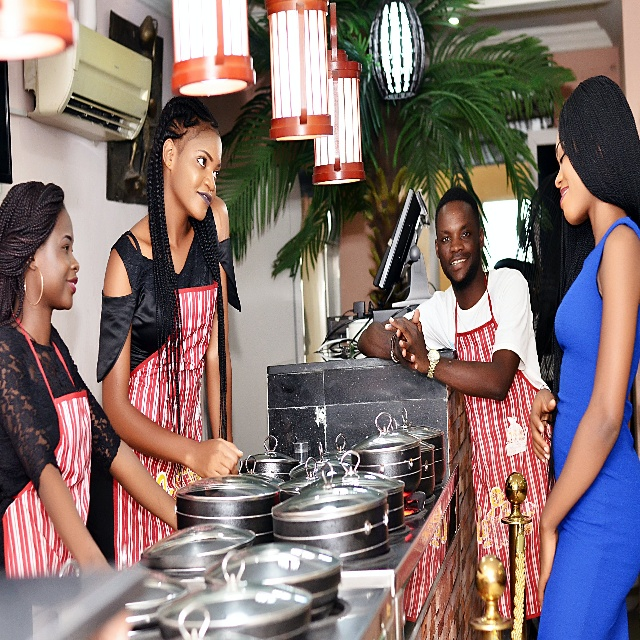Sin_guantes: (389, 314, 428, 375), (537, 514, 559, 609), (529, 388, 556, 463), (193, 437, 243, 476), (393, 328, 418, 370)
